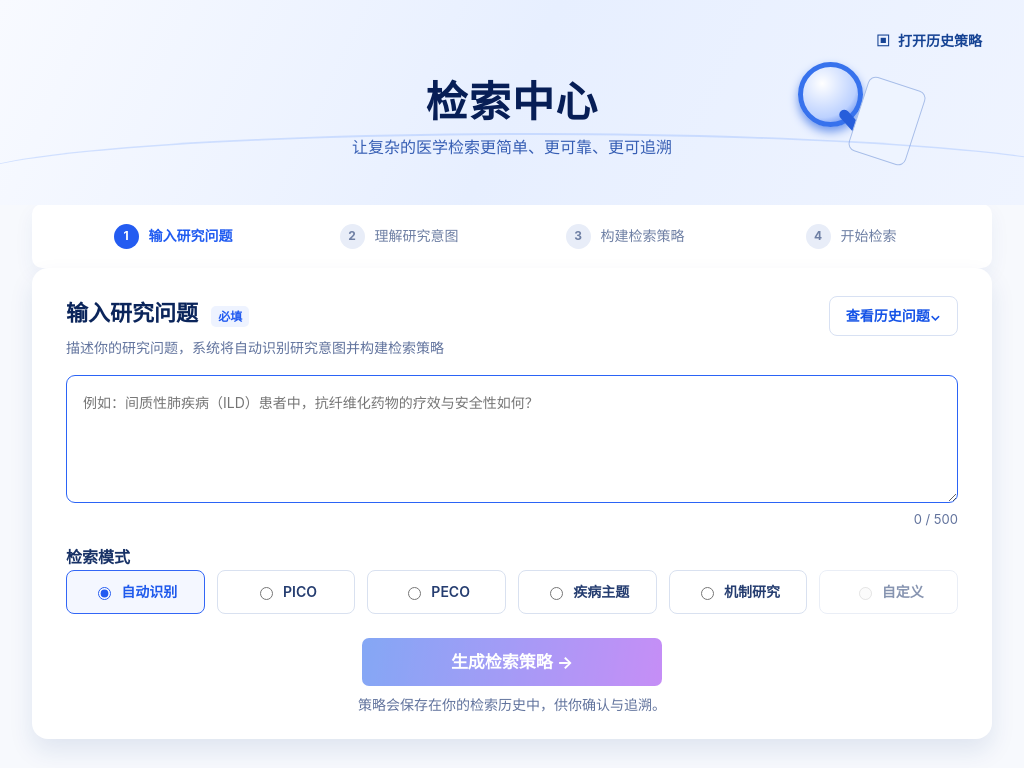
does not send an invalid empty term group to build-query
Type "未映射问题" into the text box with placeholder "例如：间质性肺疾病（ILD）患者中，抗纤维化药物的疗效与安全性如何？" at (512, 439), box [66,375,958,503]
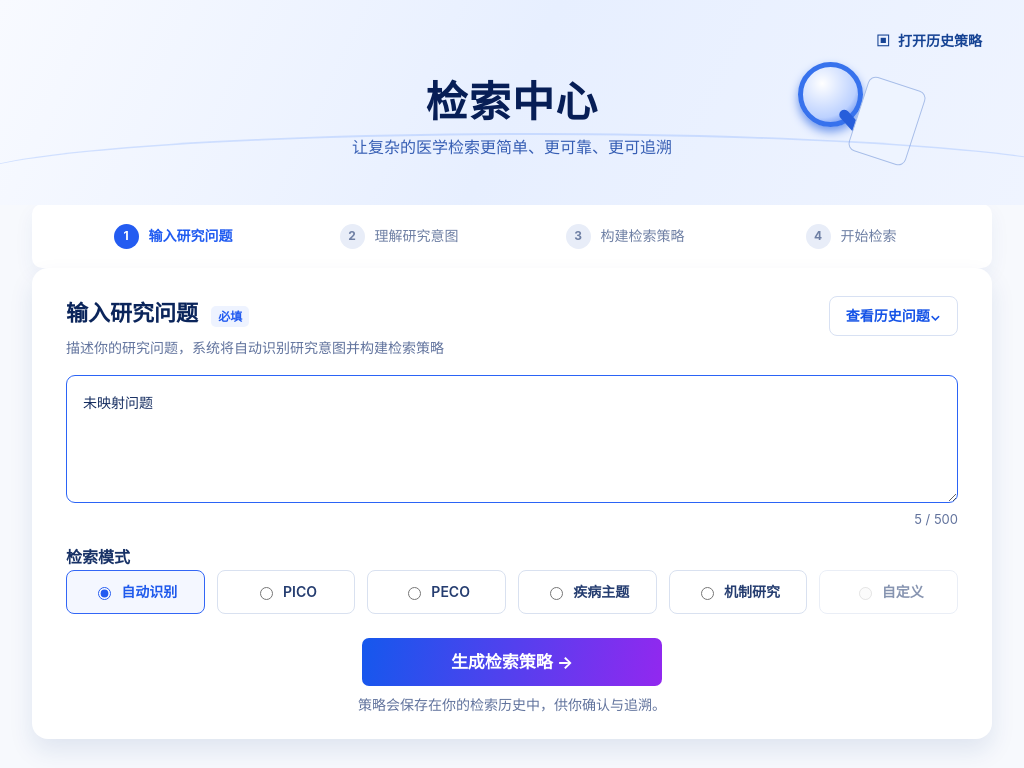
Click the button with class "submit" at (512, 662), box [362,638,662,686]
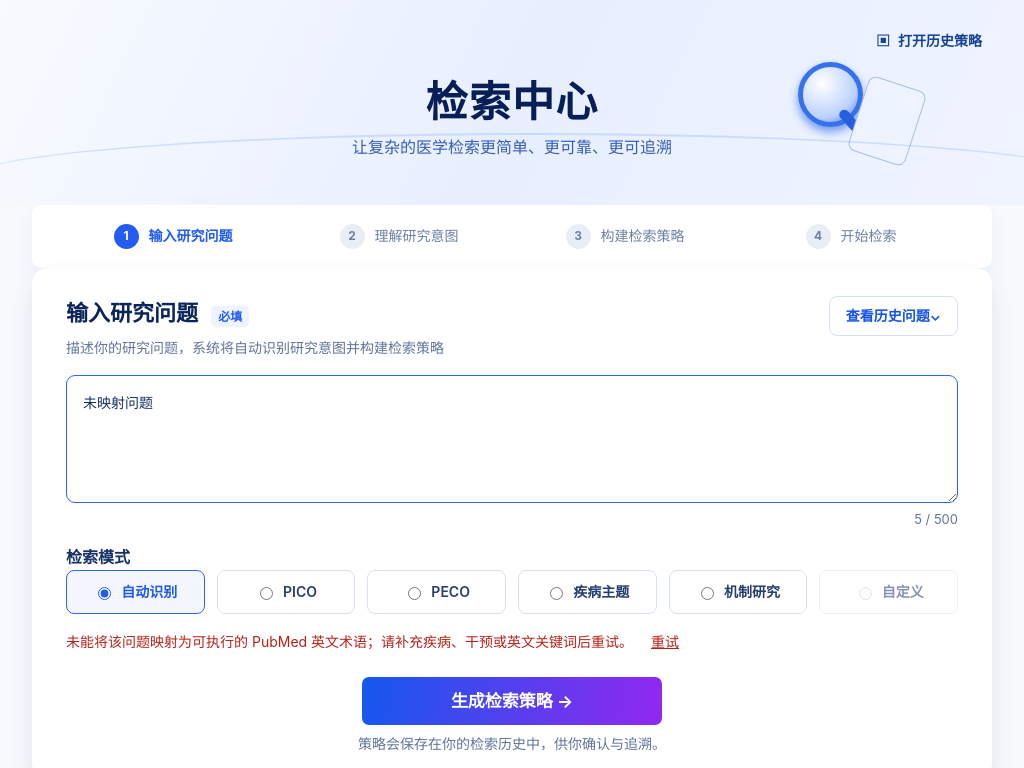
Result: the text "未能将该问题映射为可执行的 PubMed 英文术语" is shown at [66,633,637,650]
